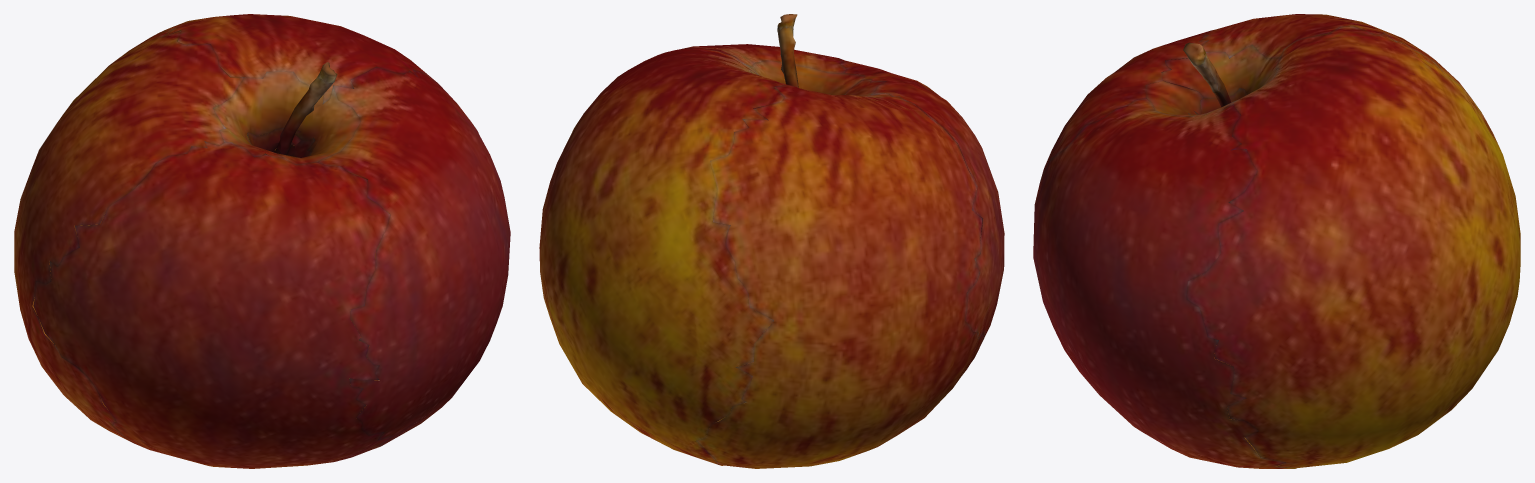
Rendered from food_apple_01.glb.
3 views of the same model, side by side, from view 1: azimuth 30°, elevation 25°; view 2: azimuth 150°, elevation 25°; view 3: azimuth 270°, elevation 25° (orthographic). The views are drawn at different scales.
Visible parts, largest first — view 1: food_apple_01; view 2: food_apple_01; view 3: food_apple_01.
Part boxes in pixels (<box>): food_apple_01: <box>14,14,510,468</box>; food_apple_01: <box>539,14,1004,468</box>; food_apple_01: <box>1033,14,1520,468</box>.
Size of the model in its own units: 0.9999 by 0.8747 by 0.9826.
Materials: 1 (1 with a texture image).
